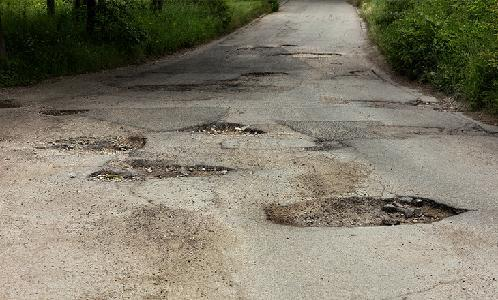pothole: (261, 194, 469, 230), (87, 158, 237, 185), (50, 135, 147, 155), (178, 122, 266, 136), (303, 138, 351, 155), (39, 107, 89, 117), (275, 52, 343, 58), (240, 71, 290, 79), (1, 100, 23, 109)
